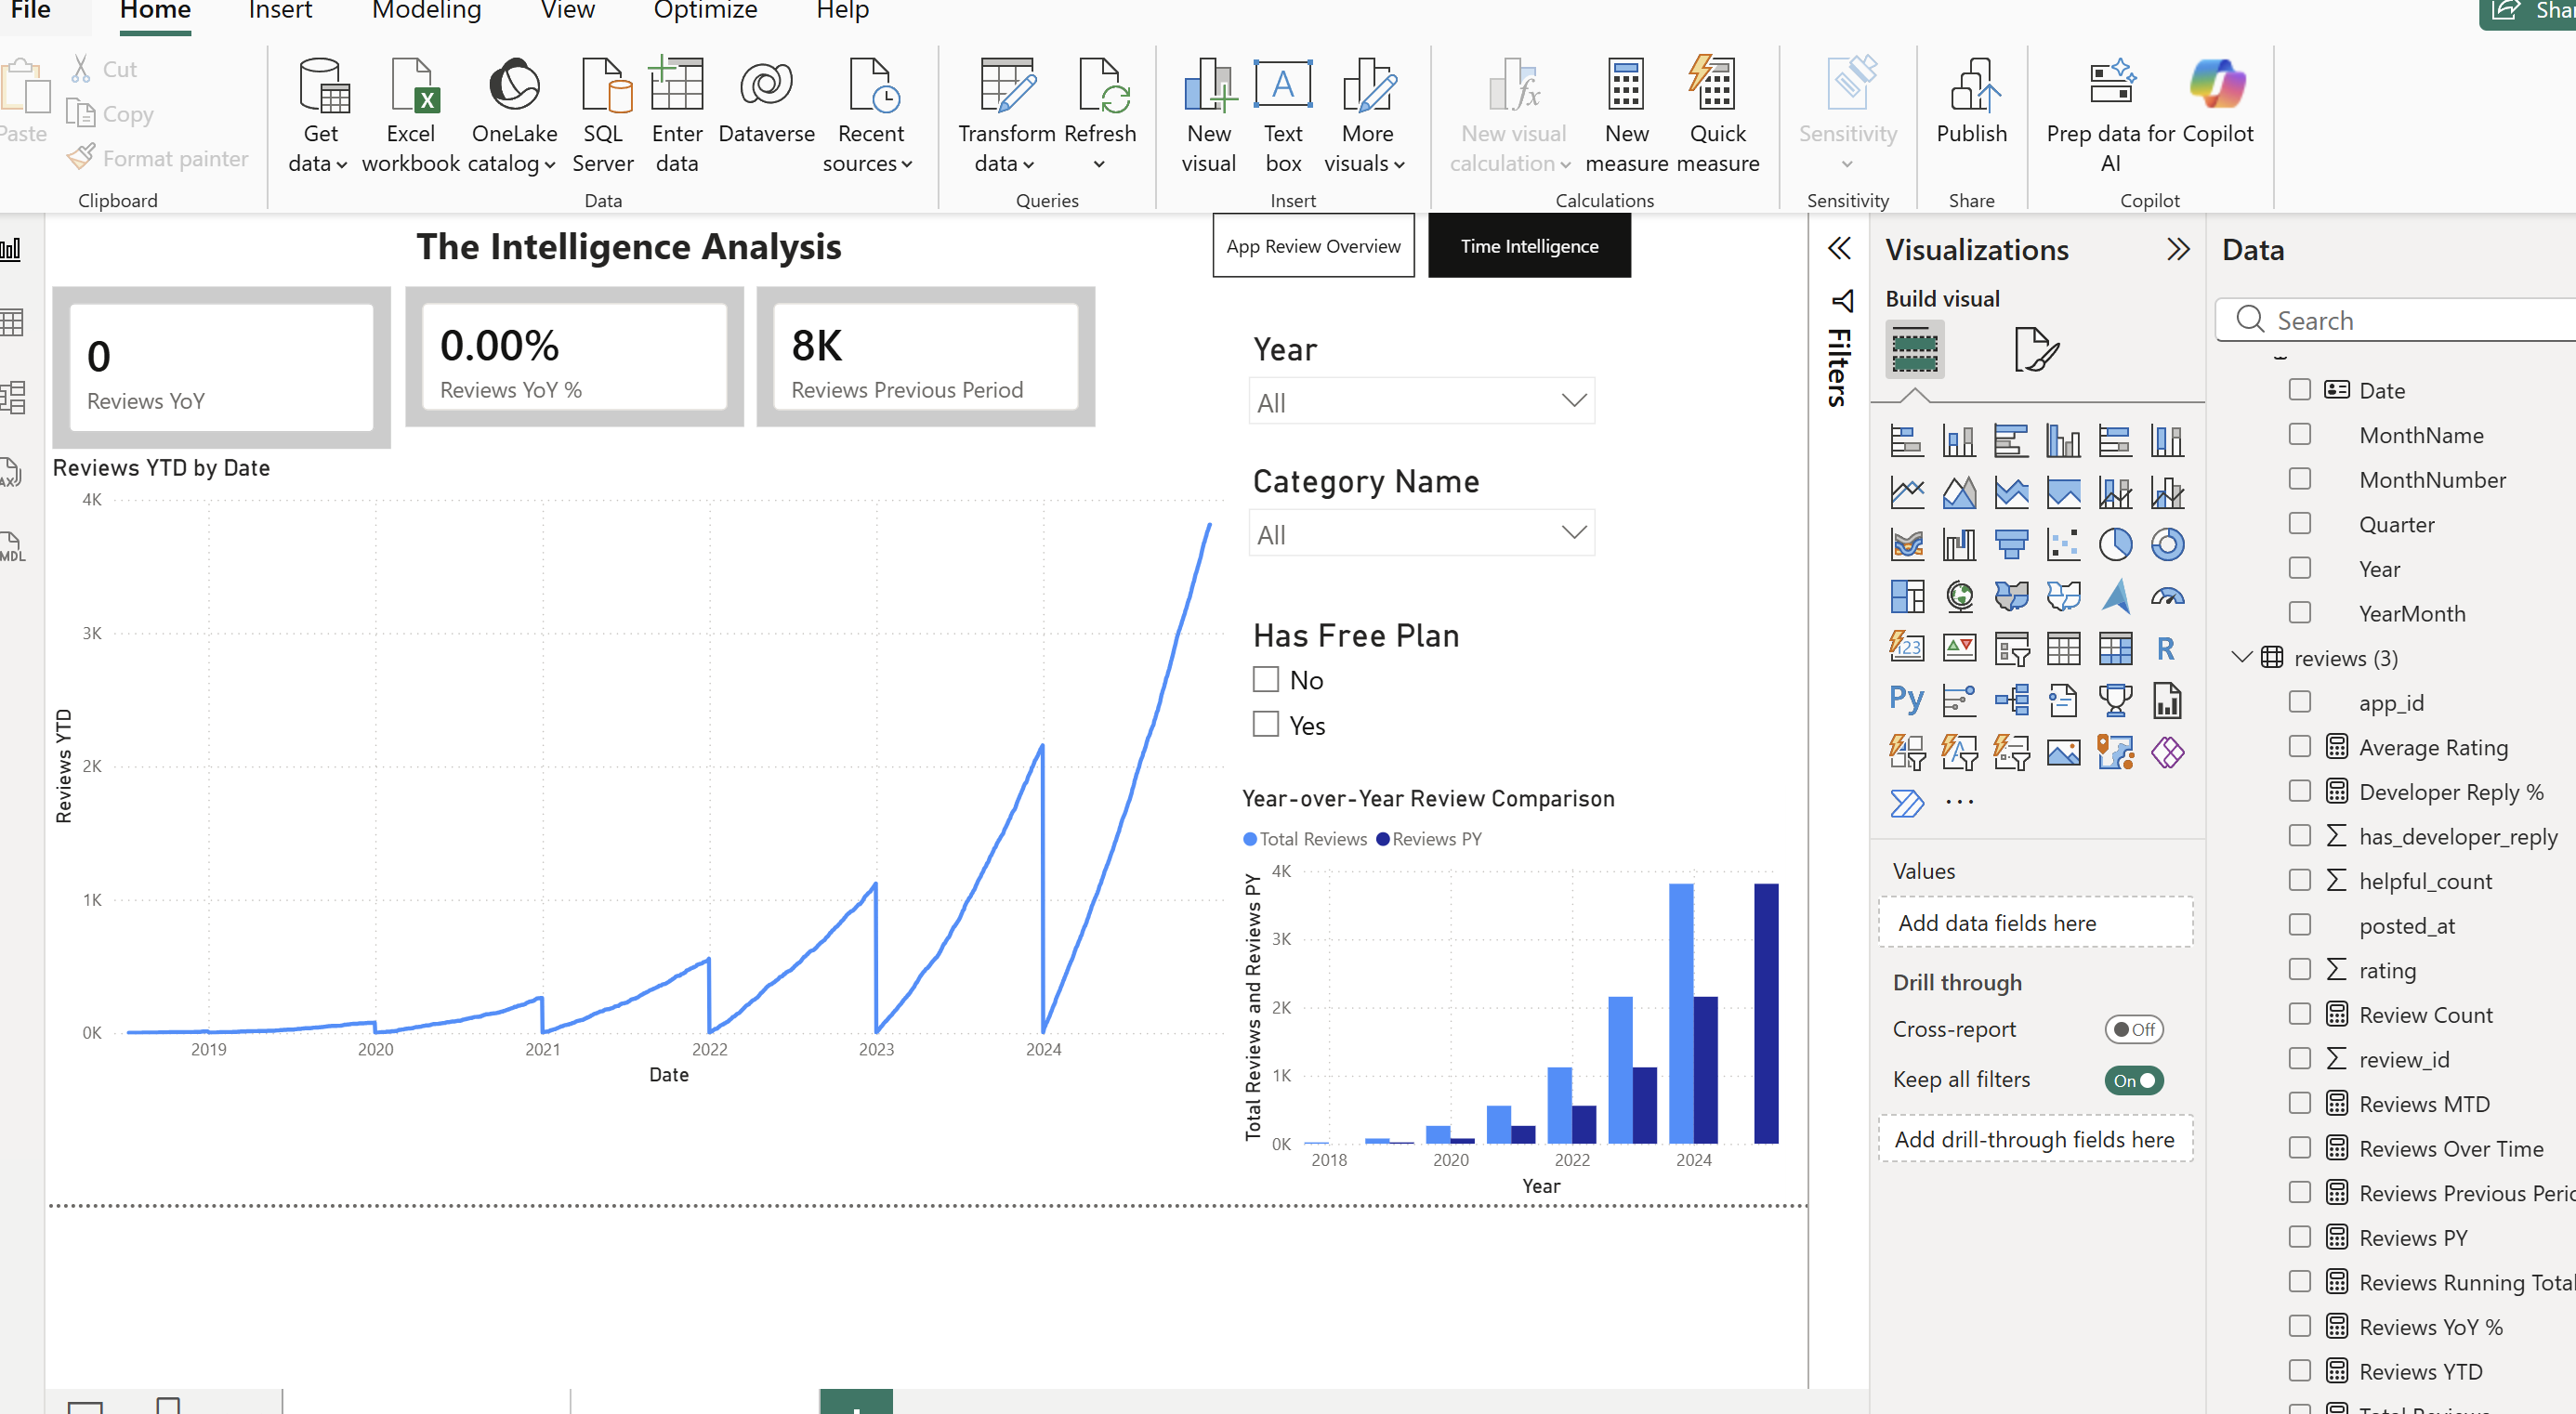

Layout of this report page (visuals, bound fields, positions):
{"tool":"powerbi","page":{"name":"Time Intelligence","canvas":[1280,720],"ordinal":1},"visuals":[{"type":"lineChart","fields":{"Category":["dim_date.Date"],"Y":["reviews (3).Reviews YTD"]},"box":[0,176,864,464],"z":0},{"type":"cardVisual","fields":{"Data":["apps (3).Reviews YoY"]},"box":[0,48,256,128],"z":1000},{"type":"slicer","fields":{"Values":["dim_date.Year"]},"box":[864,80,272,128],"z":2000},{"type":"cardVisual","fields":{"Data":["reviews (3).Reviews Previous Period"]},"box":[512,48,256,112],"z":3000},{"type":"cardVisual","fields":{"Data":["reviews (3).Reviews YoY %"]},"box":[256,48,256,112],"z":4000},{"type":"slicer","fields":{"Values":["apps (3).category_name"]},"box":[864,176,272,112],"z":5000},{"type":"slicer","fields":{"Values":["apps (3).has_free_plan"]},"box":[864,288,288,112],"z":6000},{"type":"pageNavigator","box":[848,0,304,48],"z":7000},{"type":"textbox","box":[0,0,848,48],"z":7001}]}

Visuals, with their boxes on the page's 1280x720 design canvas (x1, y1, x2, y2). These are canvas units, not pixel positions in the 2576x1414 screenshot, which may show the page scaled, cropped or inside an application window:
lineChart - dim_date.Date x reviews (3).Reviews YTD: pyautogui.locateOnScreen(0, 176, 864, 640)
cardVisual - apps (3).Reviews YoY: pyautogui.locateOnScreen(0, 48, 256, 176)
slicer - dim_date.Year: pyautogui.locateOnScreen(864, 80, 1136, 208)
cardVisual - reviews (3).Reviews Previous Period: pyautogui.locateOnScreen(512, 48, 768, 160)
cardVisual - reviews (3).Reviews YoY %: pyautogui.locateOnScreen(256, 48, 512, 160)
slicer - apps (3).category_name: pyautogui.locateOnScreen(864, 176, 1136, 288)
slicer - apps (3).has_free_plan: pyautogui.locateOnScreen(864, 288, 1152, 400)
pageNavigator: pyautogui.locateOnScreen(848, 0, 1152, 48)
textbox: pyautogui.locateOnScreen(0, 0, 848, 48)
